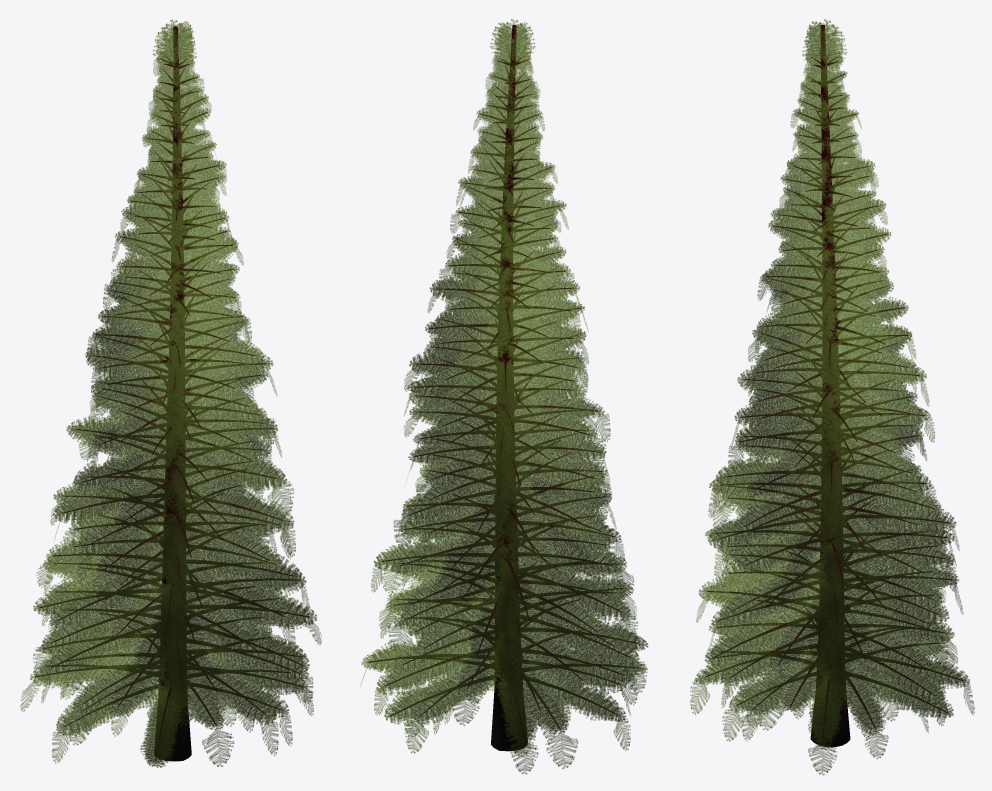
The model's file is larch_sparse_v03.glb.
3 views of the same model, side by side, from view 1: azimuth 30°, elevation 25°; view 2: azimuth 150°, elevation 25°; view 3: azimuth 270°, elevation 25° (orthographic). The views are drawn at different scales.
Parts seen in each view (by area): view 1: larch_sparse_v03; view 2: larch_sparse_v03; view 3: larch_sparse_v03.
Part boxes in pixels (x1,y1,x2,y2): larch_sparse_v03: (20,19,321,767); larch_sparse_v03: (360,19,647,774); larch_sparse_v03: (690,19,974,775).
Bounding box in the file's own units: 7.91 × 20.21 × 7.47.
2 materials, 2 textured.
